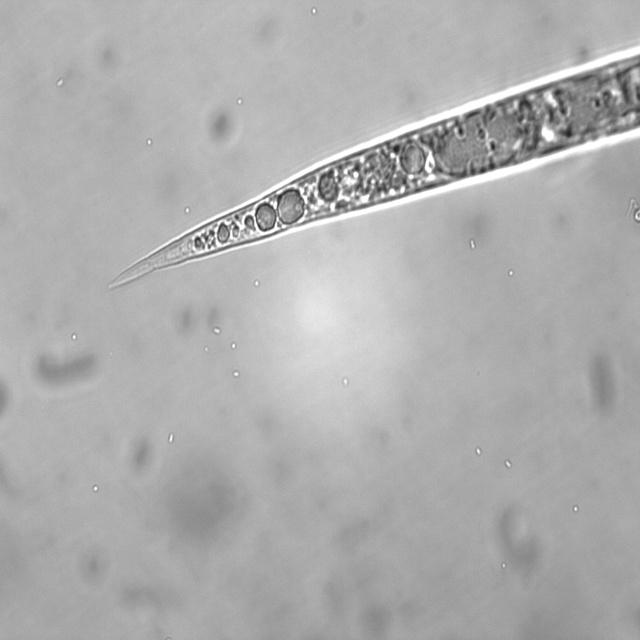Meloidogyne: (92, 74, 534, 298)
